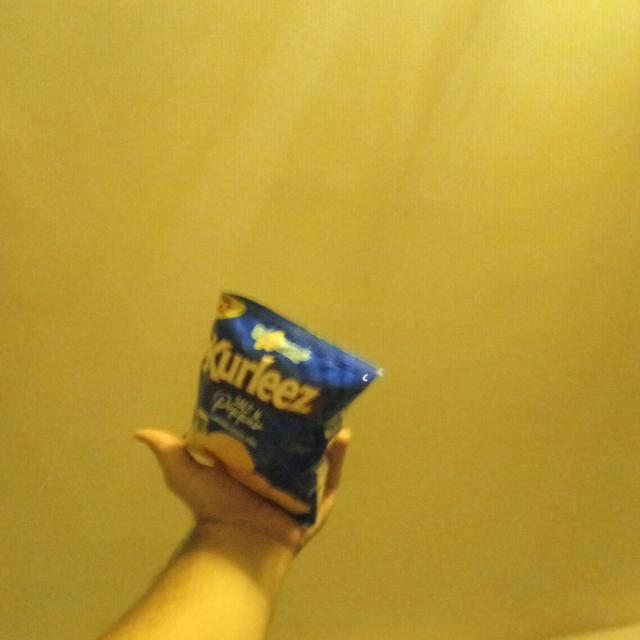Plastic: (168, 280, 392, 542)
